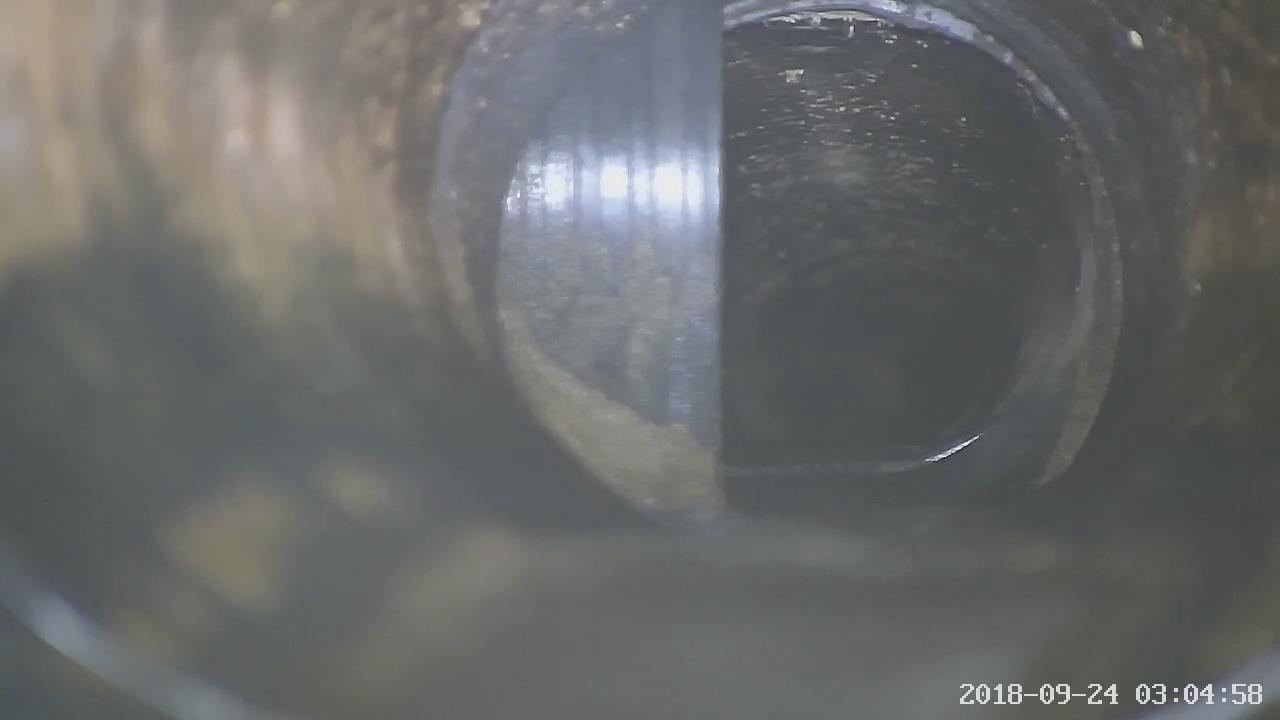ZGAJ: (434, 0, 723, 519)
